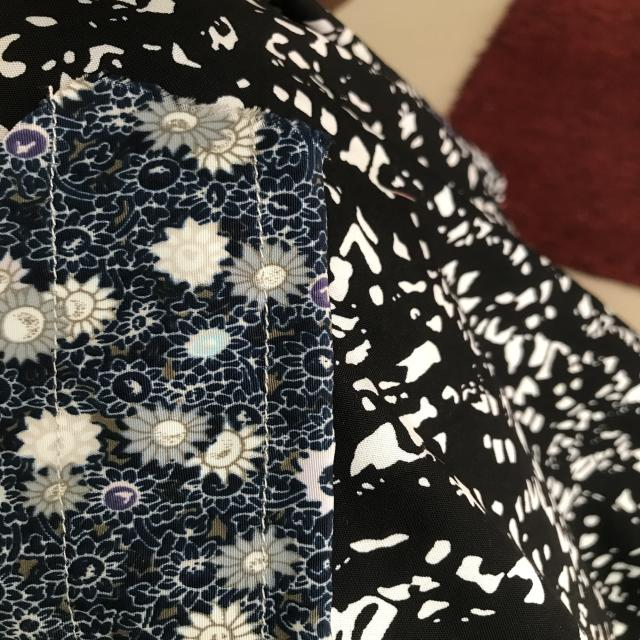good: (253, 325, 277, 505), (32, 183, 69, 273)
